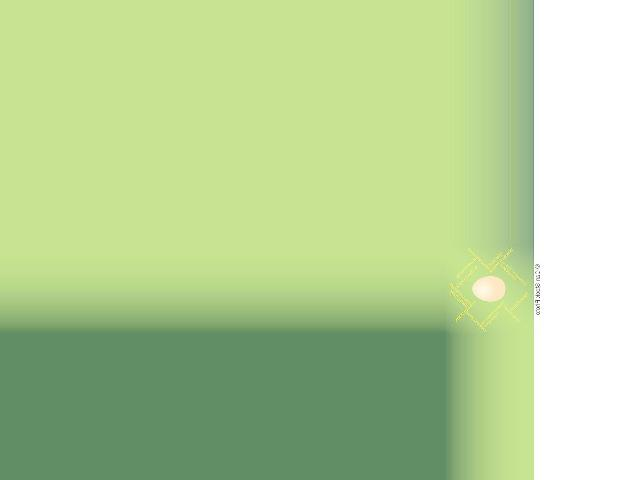egg: (471, 276, 505, 301)
